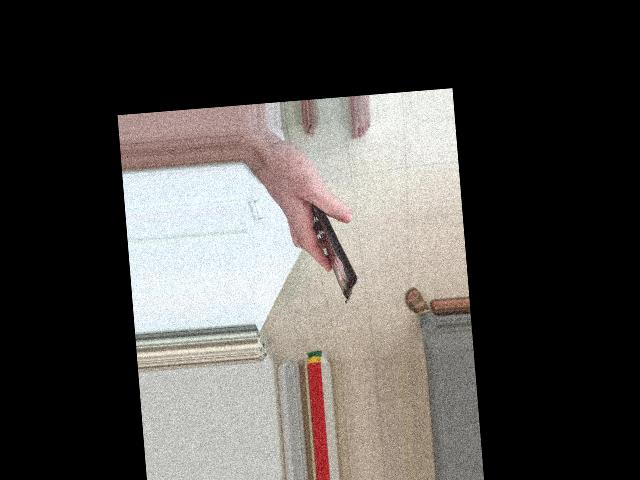chocolate: (299, 189, 365, 304)
